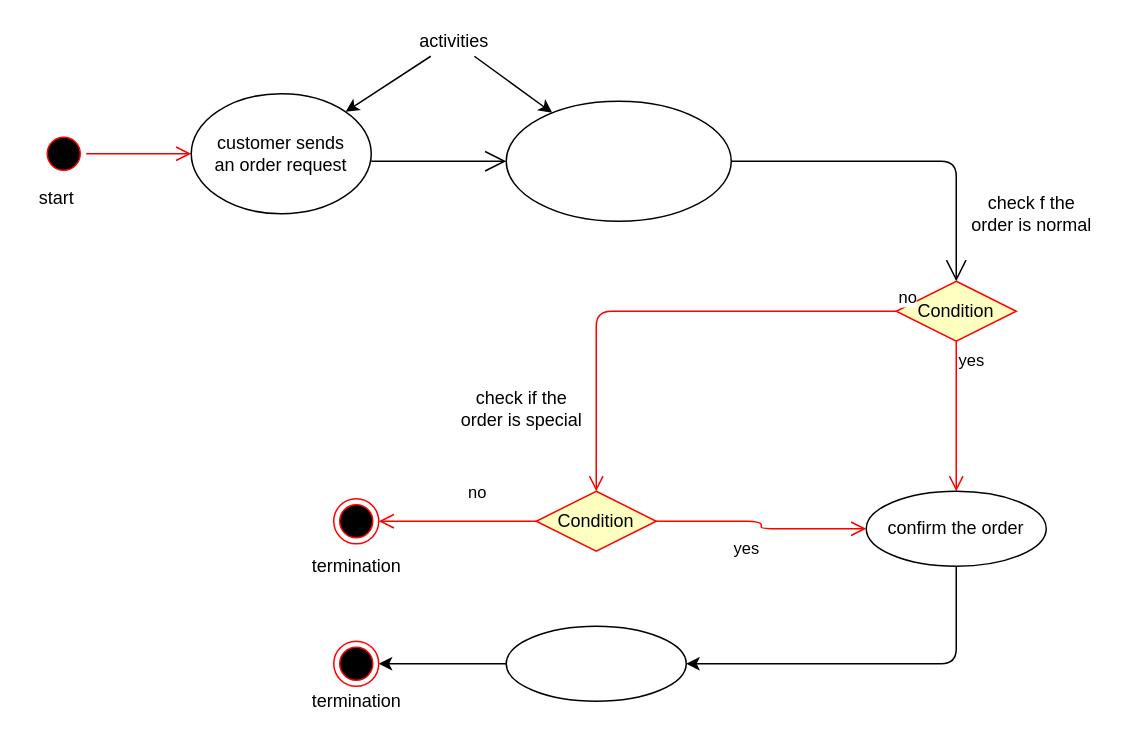
Image size: 1131x741. Some labels were removed from this diagram. Each missing label, with the centre of its shape:
"dispatch the order" goes at point 595,663.
"Order request system confirms the receipt of the order" goes at point 618,160.
